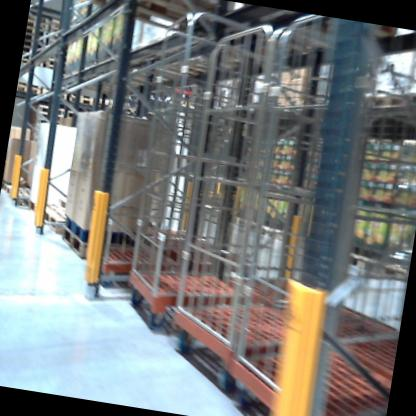pallet: (86, 0, 232, 39), (59, 225, 136, 268), (357, 85, 409, 124), (353, 254, 409, 286), (36, 201, 76, 241), (12, 182, 37, 211), (38, 88, 68, 101), (27, 14, 51, 30), (29, 118, 60, 130), (404, 87, 416, 118), (34, 103, 64, 115), (66, 95, 93, 108), (16, 84, 38, 99), (32, 111, 62, 122), (25, 26, 47, 37), (22, 51, 45, 61), (21, 58, 44, 68), (24, 40, 46, 50), (3, 181, 16, 197), (25, 34, 46, 43), (23, 47, 45, 55), (43, 63, 59, 71)
